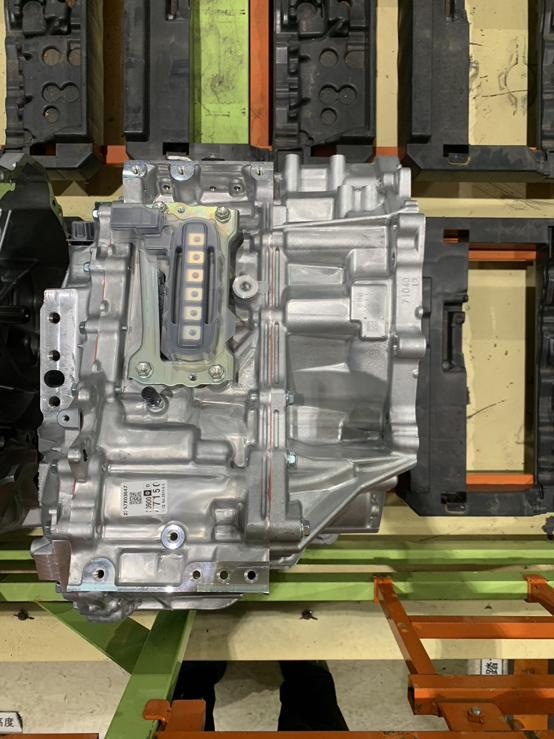gearbox_type3: (30, 155, 427, 606)
gearbox_type3_FP1: (171, 217, 214, 357)
gearbox_type3_FP2: (161, 518, 187, 552)
gearbox_type3_FP3: (40, 282, 84, 428)
